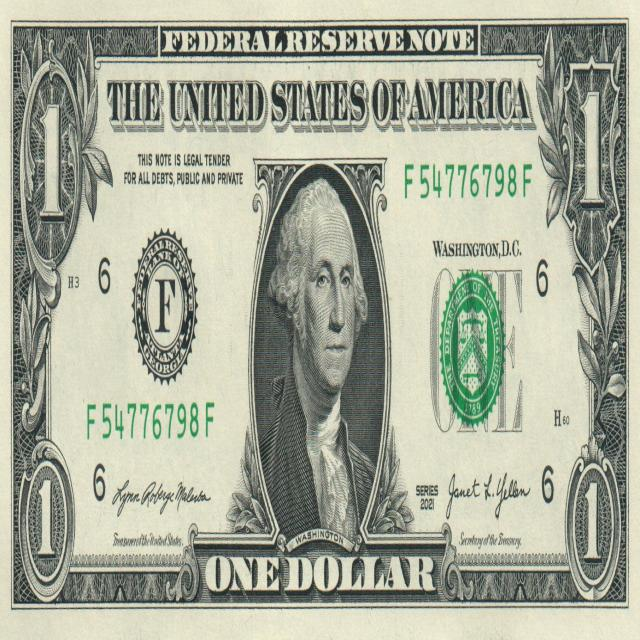SerialNumber: (405, 164, 531, 199), (101, 403, 214, 440)
